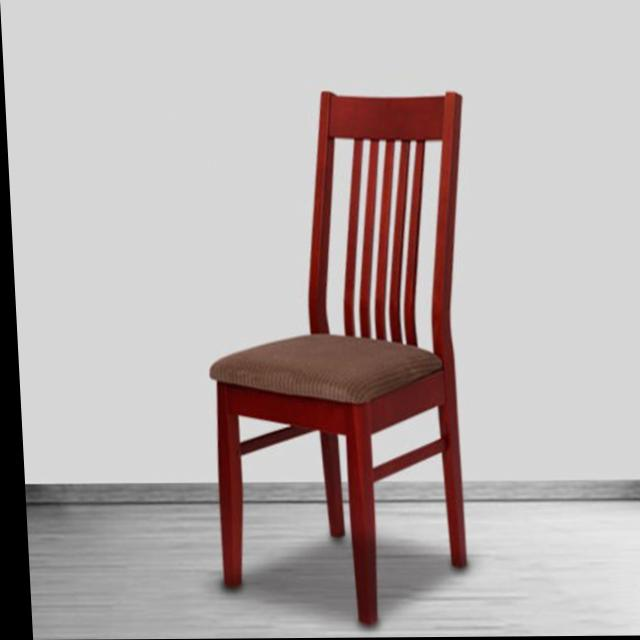Chair: (192, 89, 484, 625)
